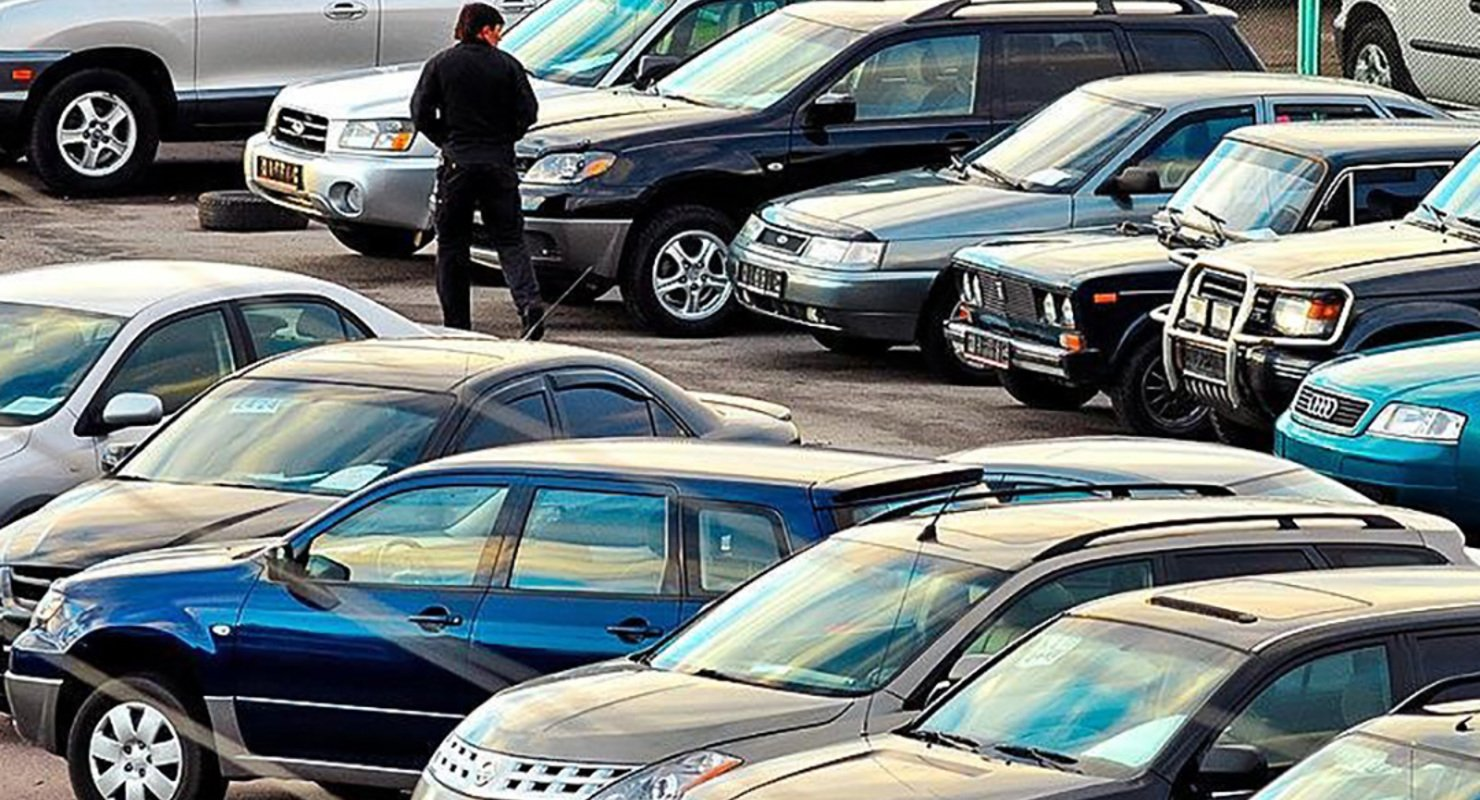Car: (5, 439, 1000, 800), (413, 496, 1478, 800), (0, 337, 800, 712), (430, 0, 1272, 334), (727, 72, 1450, 383), (683, 568, 1480, 800), (944, 120, 1480, 438), (242, 0, 789, 255), (0, 260, 458, 527), (0, 0, 540, 196), (1160, 144, 1480, 448), (1272, 333, 1480, 533), (940, 436, 1372, 504), (1250, 673, 1480, 800), (1332, 0, 1480, 110)
